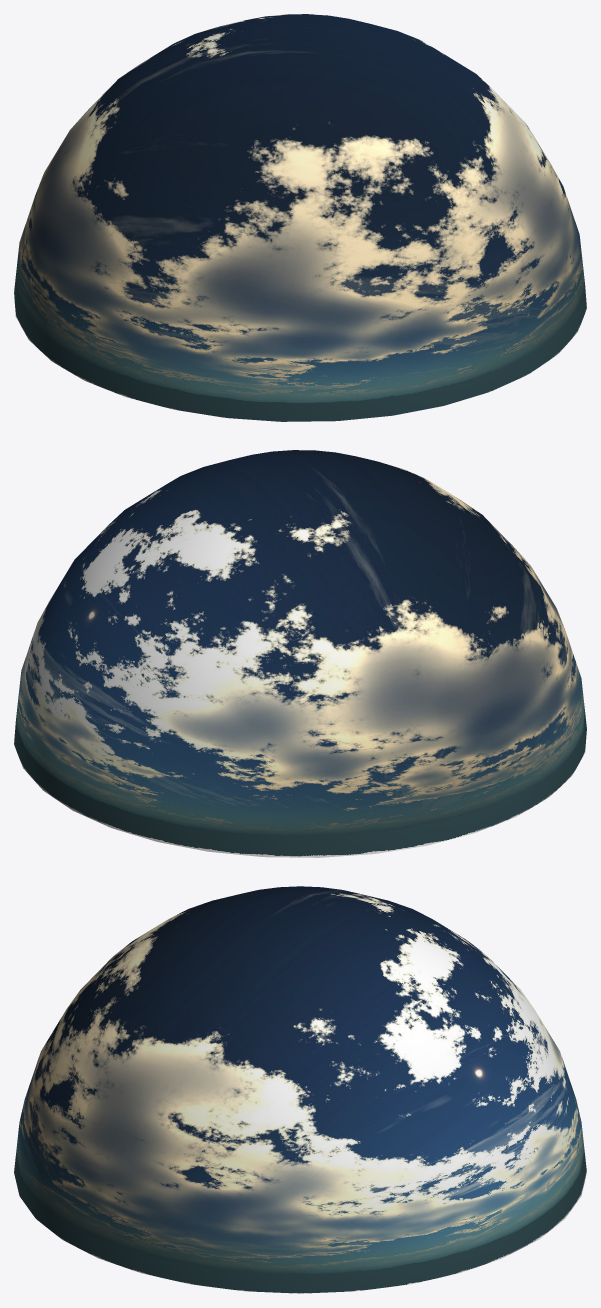
File: skydome.obj
The picture shows the model from 3 angles, top to bottom: view 1: azimuth 30°, elevation 25°; view 2: azimuth 150°, elevation 25°; view 3: azimuth 270°, elevation 25°; orthographic projection.
Visible parts, largest first — view 1: Sphere; view 2: Sphere; view 3: Sphere.
Boxes of the visible parts, x1=… form: Sphere: x1=14, y1=14, x2=586, y2=421; Sphere: x1=14, y1=450, x2=586, y2=857; Sphere: x1=14, y1=886, x2=586, y2=1293.
Size of the model in its own units: 13.53 by 6.76 by 13.53.
1 material, 1 textured.
